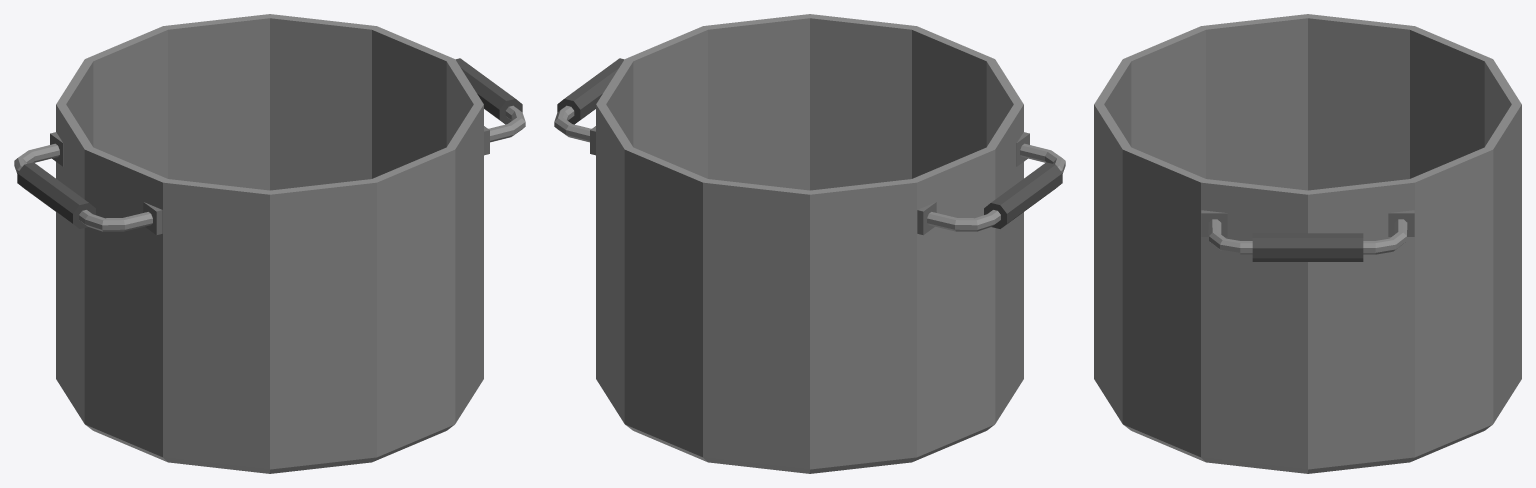
The model's file is Pan_02_C1.fbx.
3 views of the same model, side by side, from view 1: azimuth 30°, elevation 25°; view 2: azimuth 150°, elevation 25°; view 3: azimuth 270°, elevation 25° (orthographic).
Parts seen in each view (by area): view 1: Pan_02_C1; view 2: Pan_02_C1; view 3: Pan_02_C1.
Part boxes in pixels (left/top/right/bottom): Pan_02_C1: left=14, top=14, right=525, bottom=473; Pan_02_C1: left=554, top=14, right=1065, bottom=473; Pan_02_C1: left=1094, top=14, right=1521, bottom=473.
Size of the model in its own units: 22.28 by 13.42 by 18.36.
